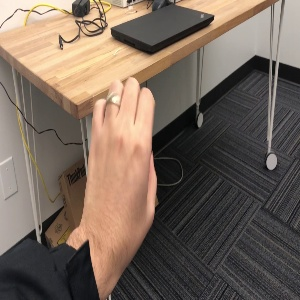hand: (83, 79, 157, 237)
